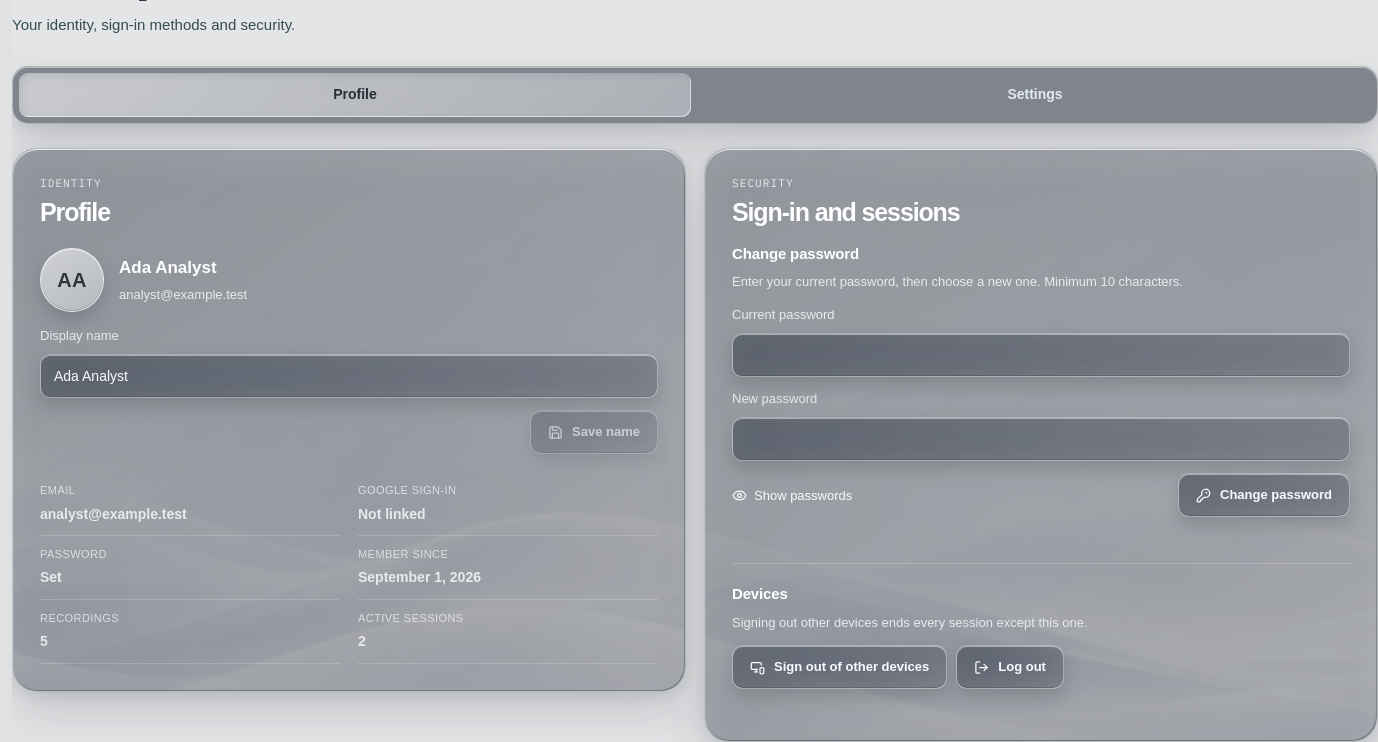
profile › signs out other devices and reports how many sessions ended
(page scrolled)
Click the button "Sign out of other devices" at (840, 667), box [732, 645, 947, 689]
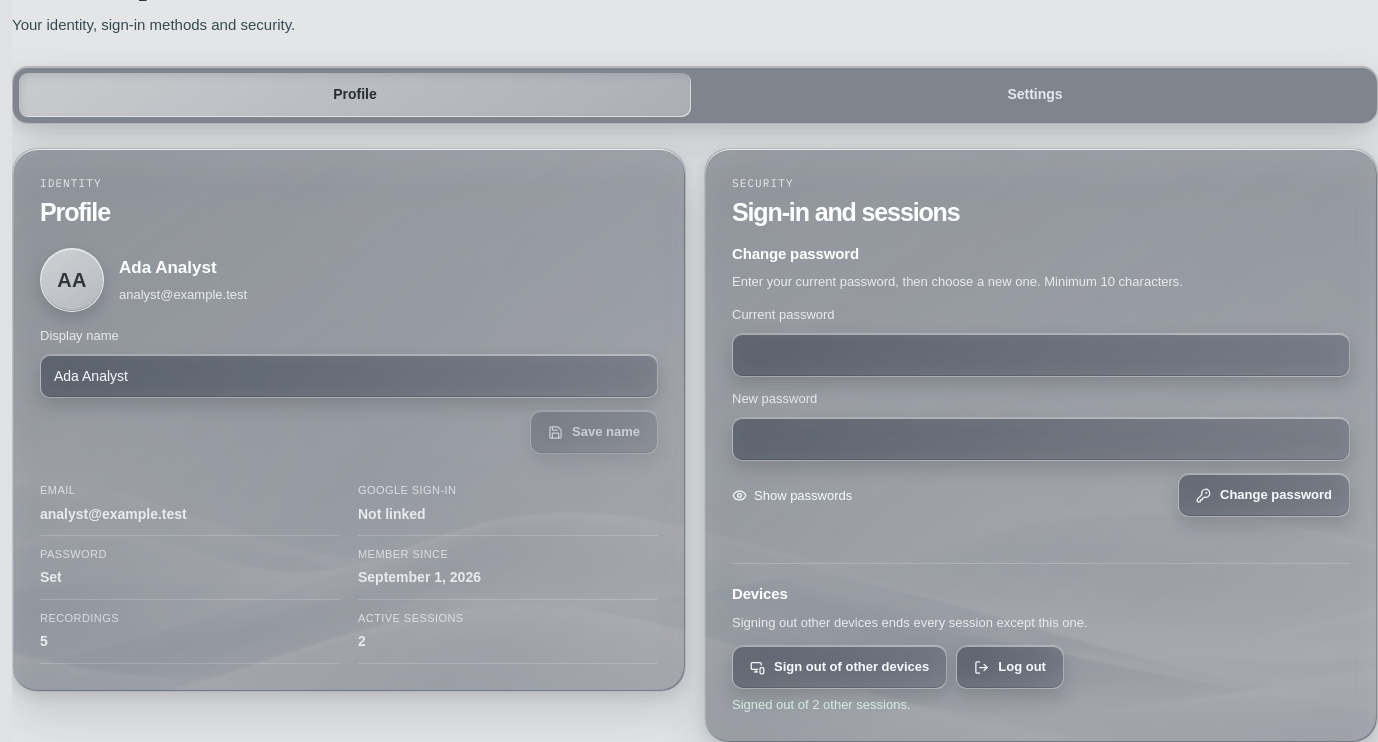
Expected: the text "Signed out of 2 other sessions." is shown, [732, 697, 910, 712]
